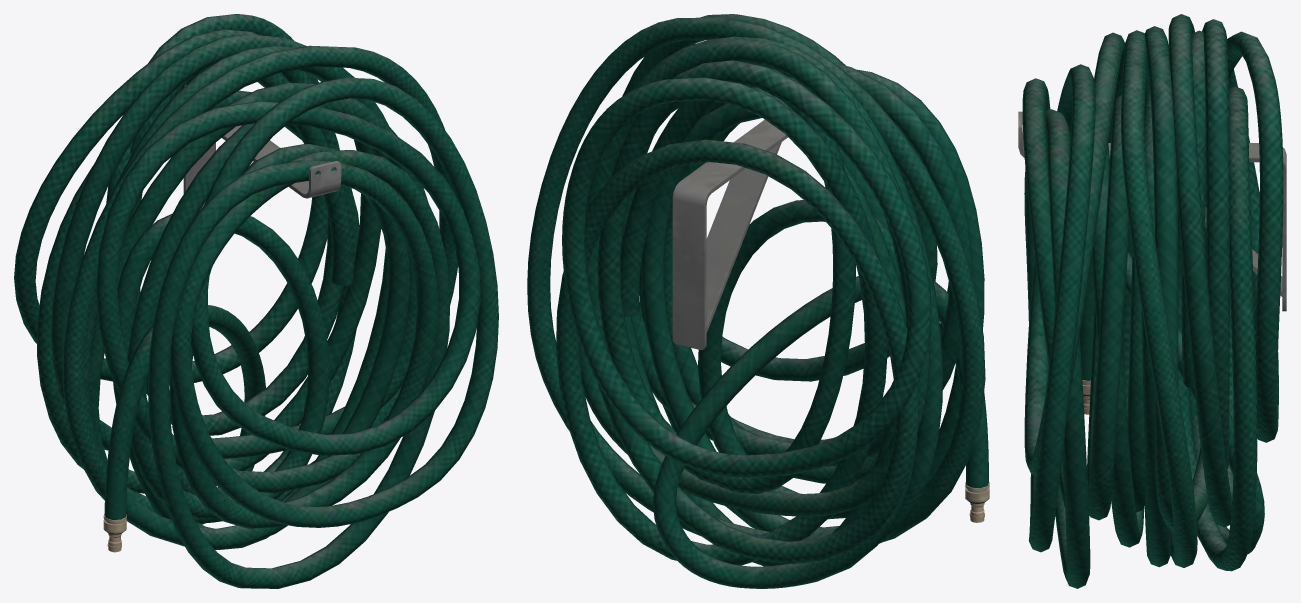
File: garden-hose.glb
3 views of the same model, side by side, from view 1: azimuth 30°, elevation 25°; view 2: azimuth 150°, elevation 25°; view 3: azimuth 270°, elevation 25° (orthographic). The views are drawn at different scales.
Parts seen in each view (by area): view 1: garden_hose_wall_bracket; view 2: garden_hose_wall_bracket; view 3: garden_hose_wall_bracket.
Boxes of the visible parts, box(x1,y1,x2,y2) form: garden_hose_wall_bracket: box(14, 14, 498, 588); garden_hose_wall_bracket: box(527, 14, 989, 588); garden_hose_wall_bracket: box(1018, 14, 1286, 588).
Bounding box in the file's own units: 0.4667 × 0.557 × 0.2503.
Materials: 1 (1 with a texture image).
